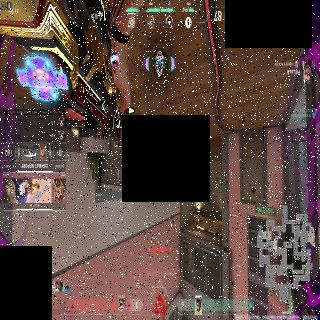ENEMY-BODY: (152, 134, 168, 182)
ENEMY-HEAD: (160, 173, 162, 180)
